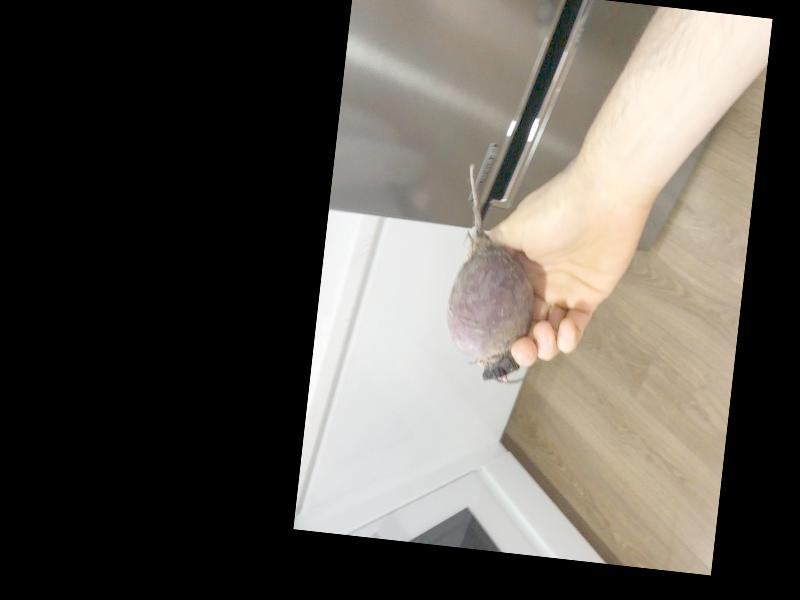Beet: (439, 164, 547, 386)
